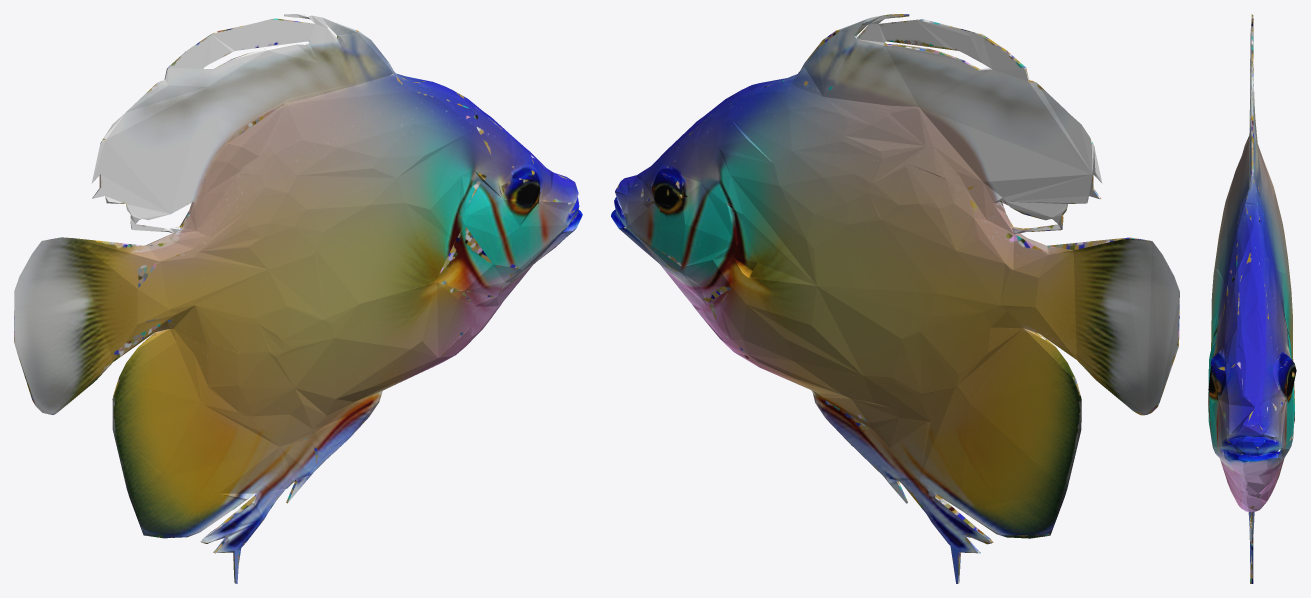
The model's file is fish_0012_smpl23_resized.glb.
3 renders of one model, left to right at view 1: azimuth 30°, elevation 25°; view 2: azimuth 150°, elevation 25°; view 3: azimuth 270°, elevation 25°, orthographic.
Parts seen in each view (by area): view 1: world; view 2: world; view 3: world.
Boxes of the visible parts, box(x1,y1,x2,y2) form: world: box(14, 14, 582, 583); world: box(611, 14, 1179, 583); world: box(1208, 14, 1296, 583).
Size of the model in its own units: 1.98 by 1.87 by 0.2676.
1 material, 1 textured.
